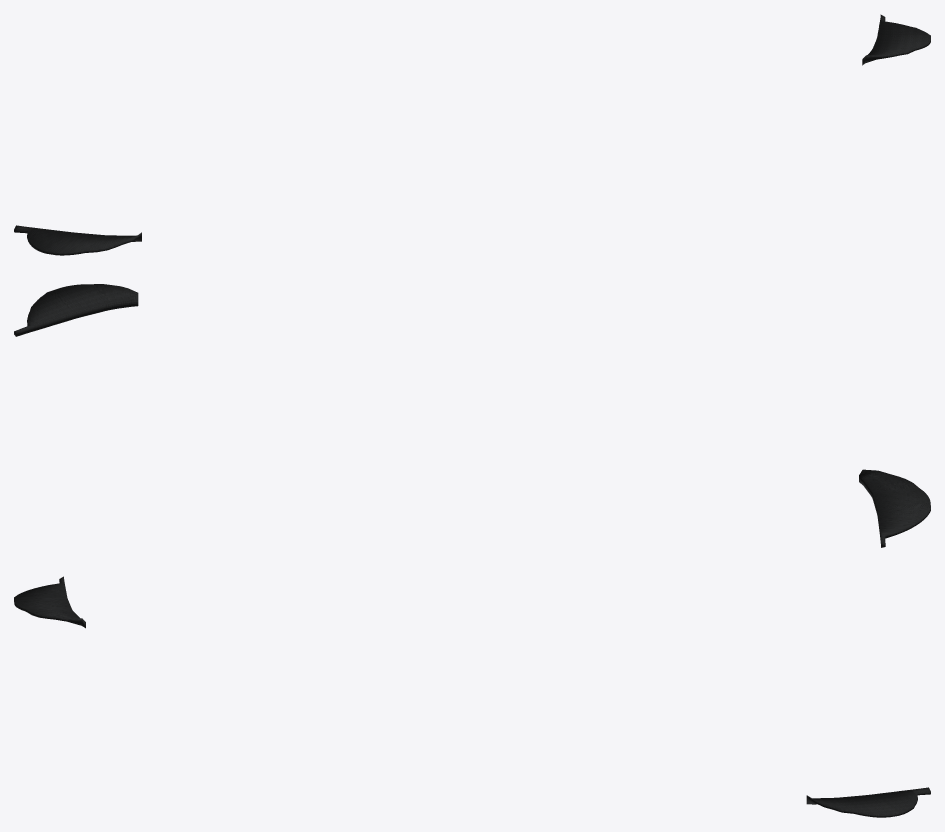
The model's file is FA45_dive_planes.glb.
The picture shows the model from 3 angles, top to bottom: view 1: azimuth 30°, elevation 25°; view 2: azimuth 150°, elevation 25°; view 3: azimuth 330°, elevation 25°; orthographic projection.
Visible parts, largest first — view 1: MOD_NA_FA45_plane_R, MOD_NA_FA45_plane_L; view 2: MOD_NA_FA45_plane_L, MOD_NA_FA45_plane_R; view 3: MOD_NA_FA45_plane_L, MOD_NA_FA45_plane_R.
Part boxes in pixels (left/top/right/bottom): MOD_NA_FA45_plane_R: left=14, top=225, right=141, bottom=255; MOD_NA_FA45_plane_L: left=862, top=14, right=930, bottom=65; MOD_NA_FA45_plane_L: left=14, top=284, right=138, bottom=336; MOD_NA_FA45_plane_R: left=859, top=469, right=930, bottom=547; MOD_NA_FA45_plane_L: left=806, top=787, right=930, bottom=817; MOD_NA_FA45_plane_R: left=14, top=576, right=85, bottom=628.
Bounding box in the file's own units: 1.48 × 0.034 × 0.1673.
1 material, 1 textured.
